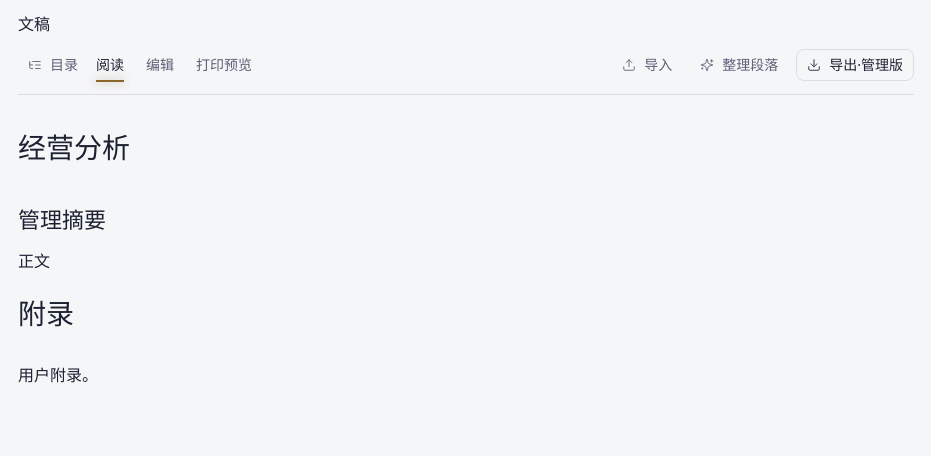
report editor workspace › deduplicates an exact leading title from the reader body and outline
Expected: the number of headings "经营分析" is 1, [18,128,130,166]
Click the button "目录" at (53, 65), box [18,49,88,81]
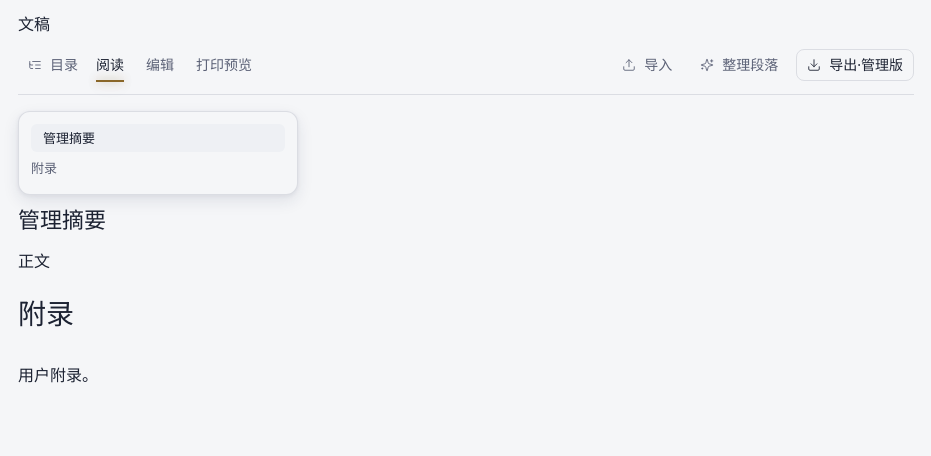
Now the link "管理摘要" is shown, box [31,124,285,152]
Now the link "附录" is shown, box [31,159,57,177]
Press Escape in the element named "文稿目录", box [18,111,298,195]
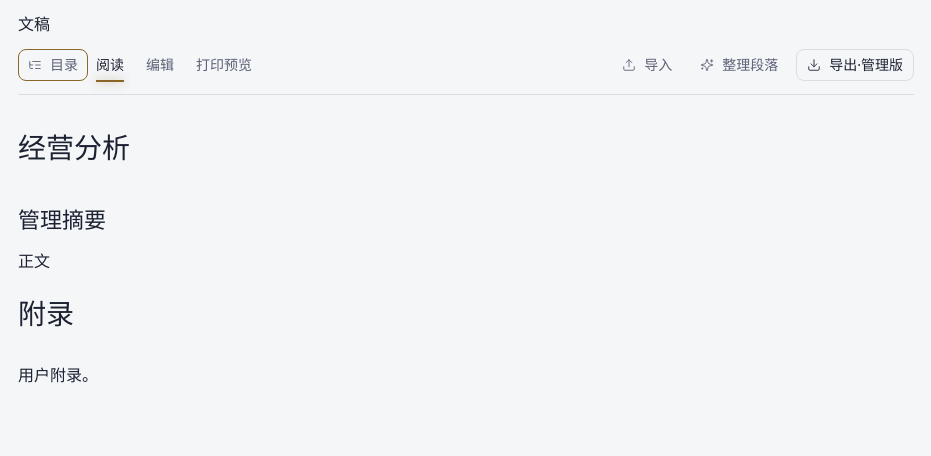
Now the element "文稿目录" is gone
